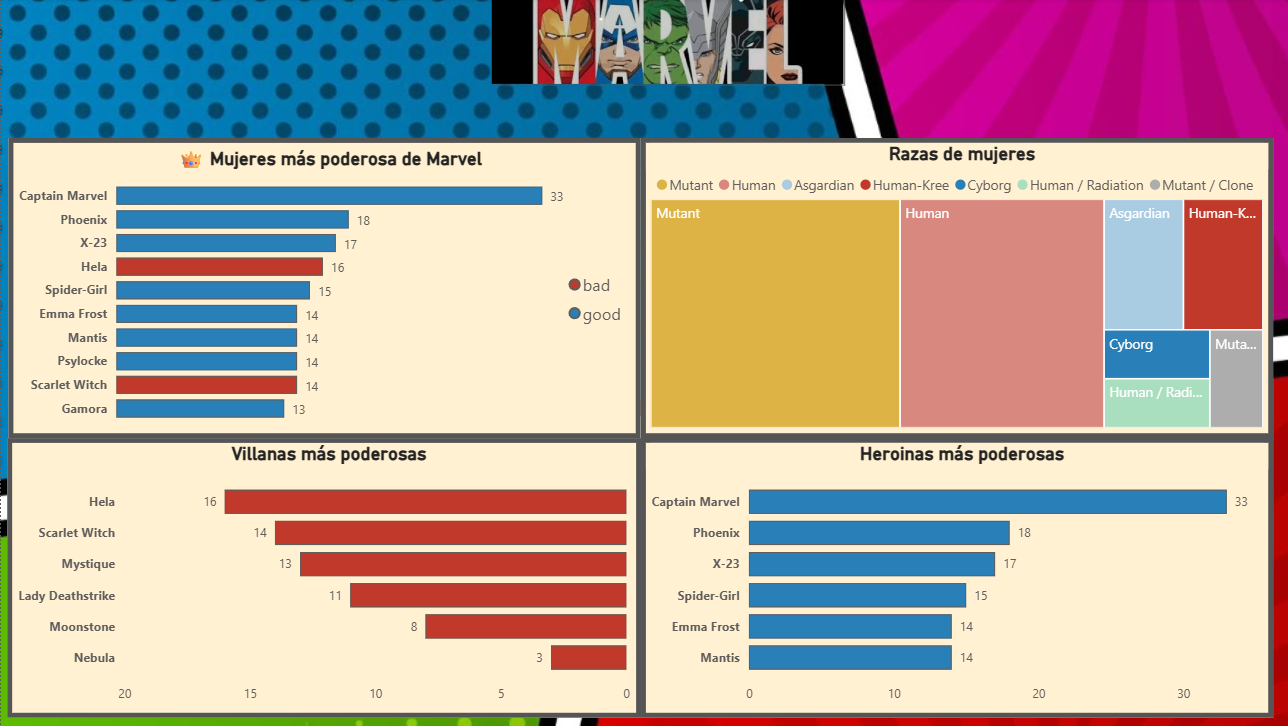

The dashboard page shown, as its layout file describes it:
{"tool":"powerbi","page":{"name":"mujeres poderosas","canvas":[1280,720],"ordinal":5},"visuals":[{"type":"treemap","title":"Razas de mujeres","fields":{"Group":["marvel_heroes_clean.Race"],"Values":["Count(marvel_heroes_clean.name)"]},"box":[626.1,137,618.8,293.5],"z":0},{"type":"barChart","title":"Heroinas más poderosas","fields":{"Category":["marvel_heroes_clean.name"],"Y":["Sum(marvel_heroes_clean.Total poderes)"]},"box":[626.1,430.4,618.8,273.9],"z":1000},{"type":"barChart","title":"Villanas más poderosas","fields":{"Category":["marvel_heroes_clean.name"],"Y":["Sum(marvel_heroes_clean.Total poderes)"]},"box":[6.1,430.4,620,273.9],"z":2000},{"type":"image","box":[479.4,0,346.1,85.6],"z":3000},{"type":"barChart","title":"👑 Mujeres más poderosa de Marvel","fields":{"Category":["marvel_heroes_clean.name"],"Y":["Sum(marvel_heroes_clean.Total poderes)"],"Series":["marvel_heroes_clean.Alignment"]},"box":[7.3,137,618.8,293.5],"z":4000}]}

Visuals, with their boxes in screenshot pixels (x1, y1, x2, y2), scaled from the page's 1280x720 canvas onto the 1288x726 screenshot:
"Razas de mujeres" treemap: detection(630, 138, 1253, 434)
"Heroinas más poderosas" barChart: detection(630, 434, 1253, 710)
"Villanas más poderosas" barChart: detection(6, 434, 630, 710)
image: detection(482, 0, 831, 86)
"👑 Mujeres más poderosa de Marvel" barChart: detection(7, 138, 630, 434)
